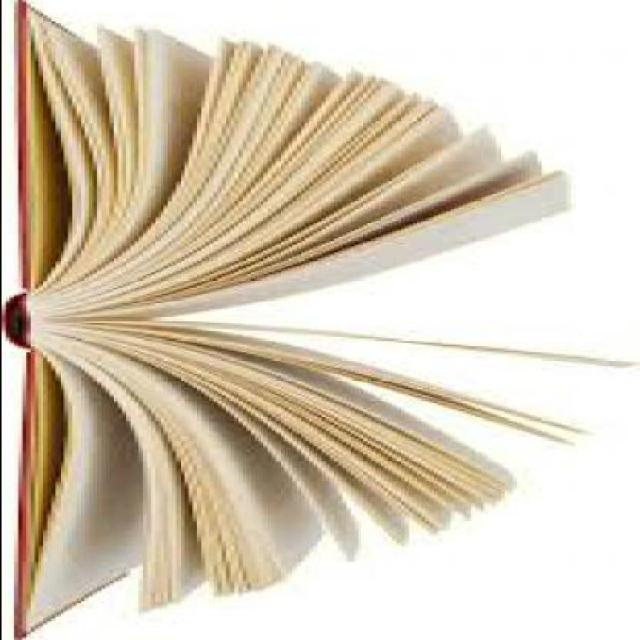PAPER: (1, 1, 638, 640)
